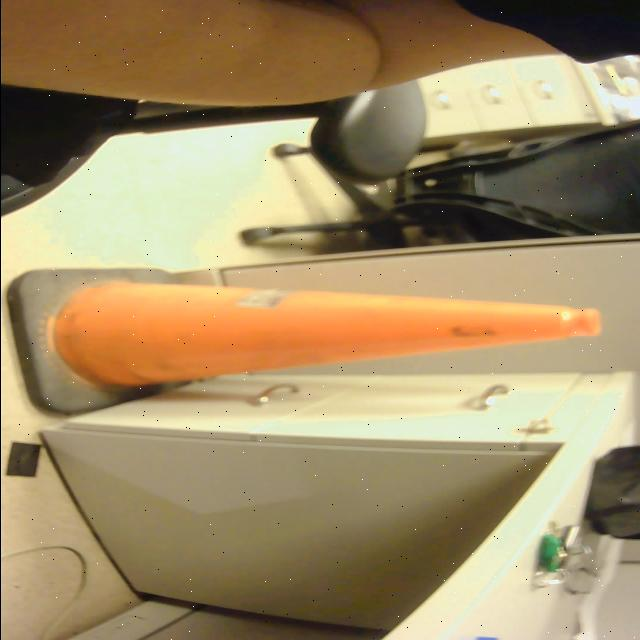traffic cone: (2, 261, 609, 423)
